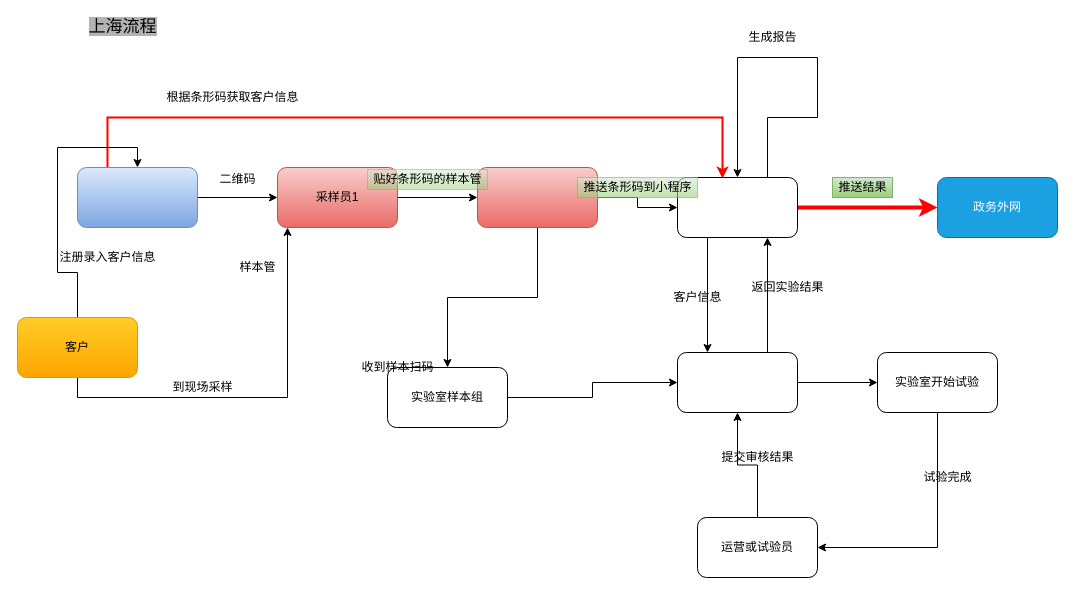
Some shapes in this 1075 by 595 pixel diagram are drawn without their labels. Here are the shapes that lost their labels. From the top down, the centre of each, then its label:
At [137,197]: "健康云".
At [537,197]: "采样员2（pos机）".
At [737,207]: "手机小程序".
At [737,382]: "腾成程lis".
